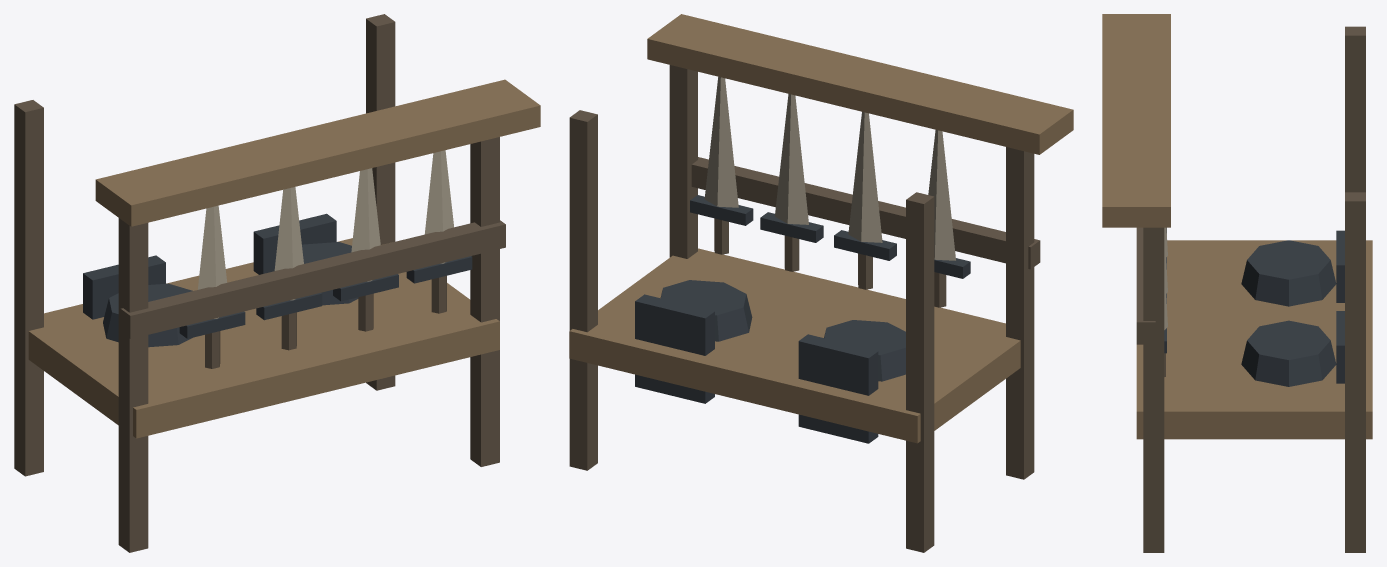
File: Town_StallArms.fbx
The picture shows the model from 3 angles, left to right: view 1: azimuth 30°, elevation 25°; view 2: azimuth 150°, elevation 25°; view 3: azimuth 270°, elevation 25°; orthographic projection. The views are drawn at different scales.
Visible parts, largest first — view 1: Town_StallArms; view 2: Town_StallArms; view 3: Town_StallArms.
Boxes of the visible parts, x1,y1,x2,y2 form: Town_StallArms: (14, 14, 540, 552); Town_StallArms: (569, 14, 1073, 552); Town_StallArms: (1102, 14, 1372, 552).
Bounding box in the file's own units: 2.4 × 2.06 × 1.42.
